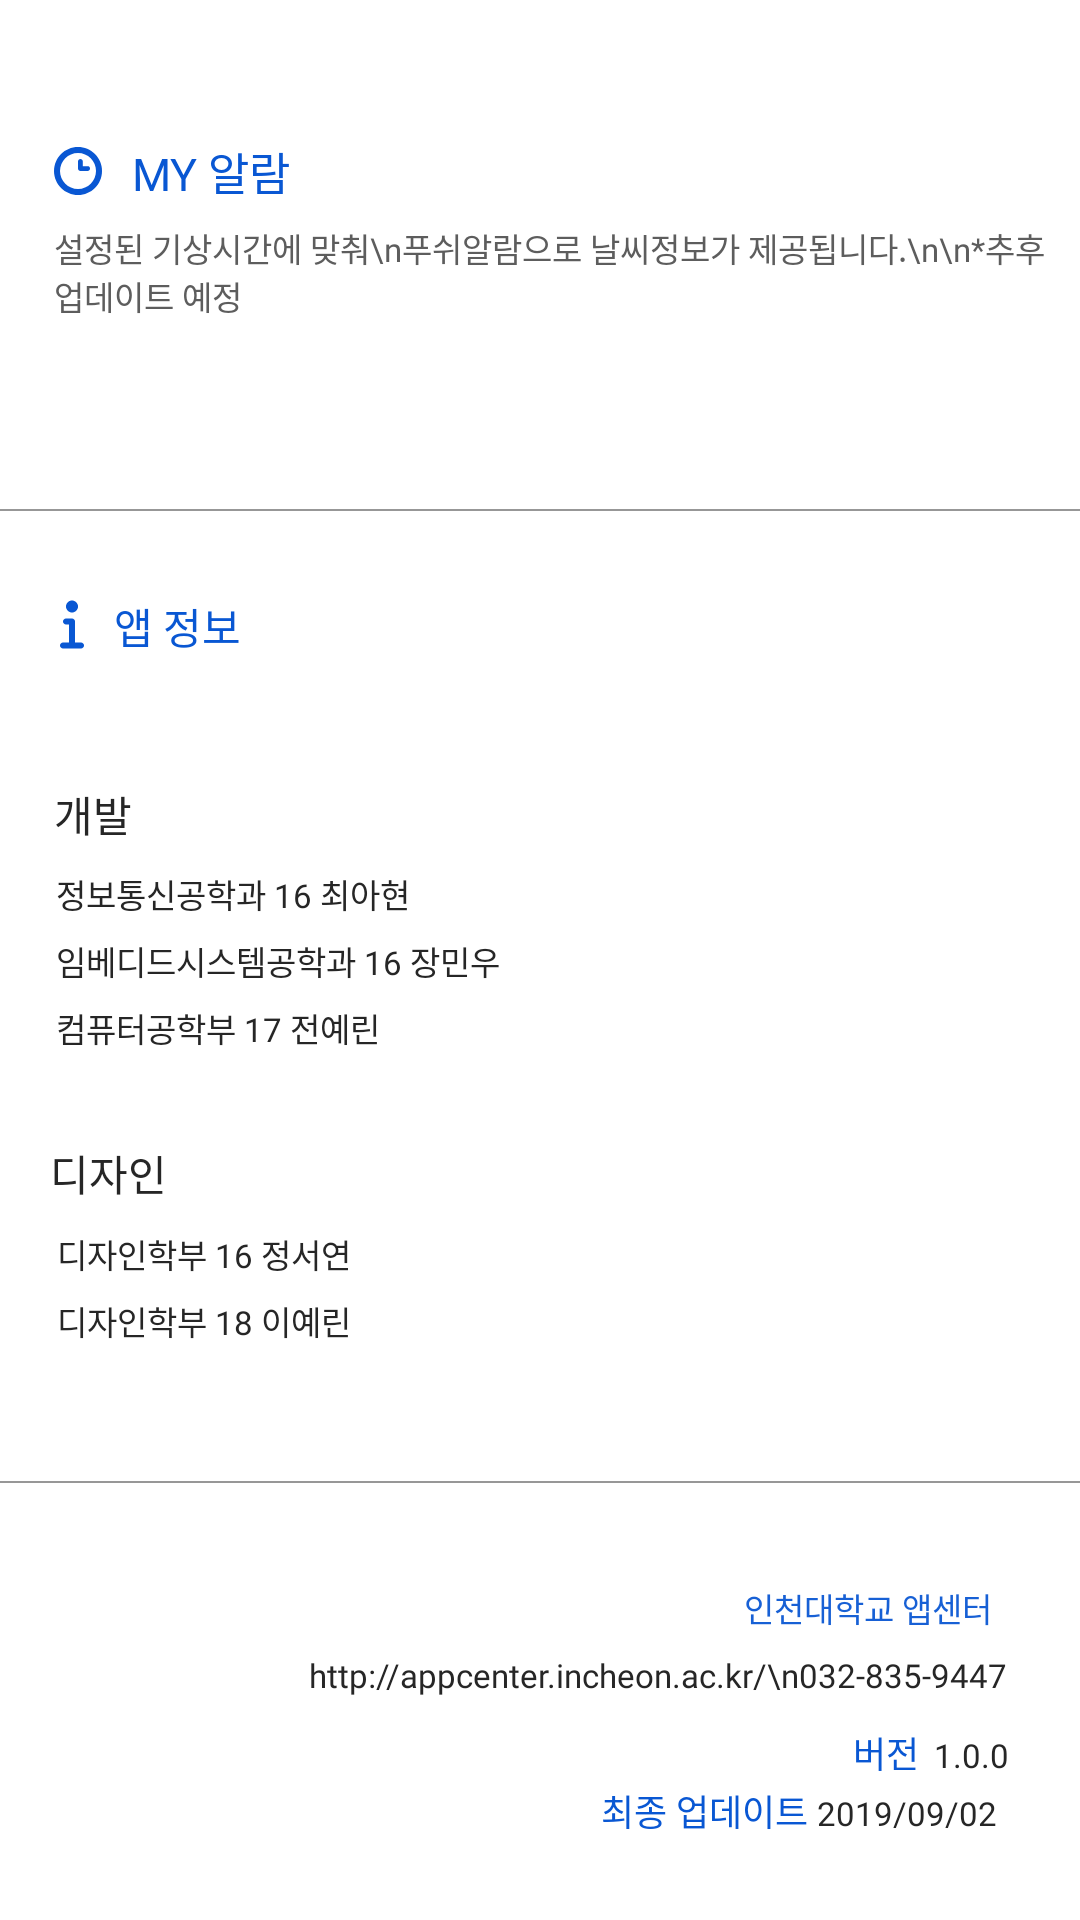

Icons on this 1080 x 1920 Android screen, each with the point to tap as point (x, y):
info: point (72, 624)
time: point (78, 171)
